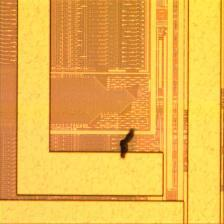PARTICLE: (117, 127, 138, 163)
